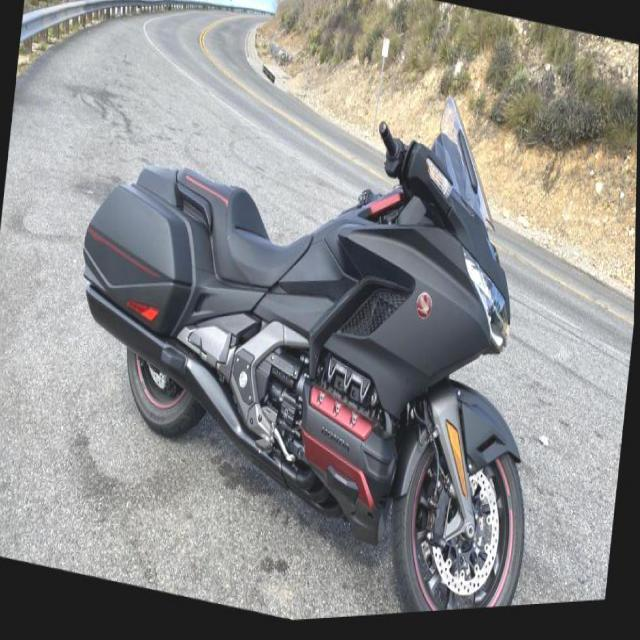Gold Wing: (48, 0, 575, 636)
